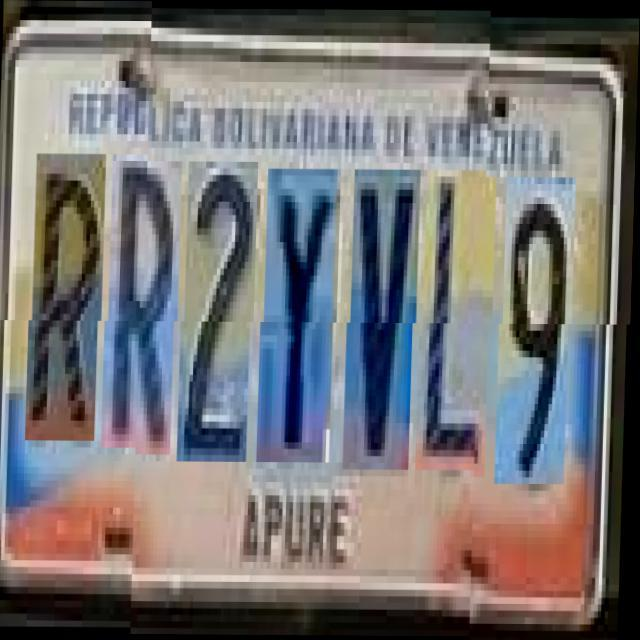2: (183, 162, 260, 462)
9: (501, 169, 577, 476)
L: (422, 169, 498, 469)
R: (107, 160, 183, 454), (31, 160, 107, 448)
V: (349, 169, 421, 469)
Y: (262, 168, 342, 462)
